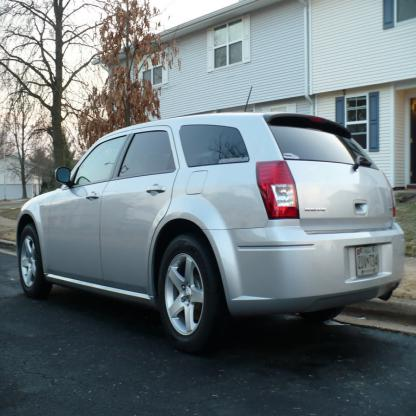Vehicle: (13, 108, 406, 358)
